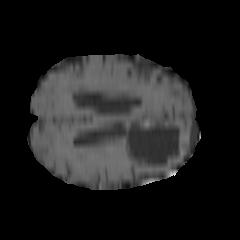glioma: (63, 66, 191, 171)
